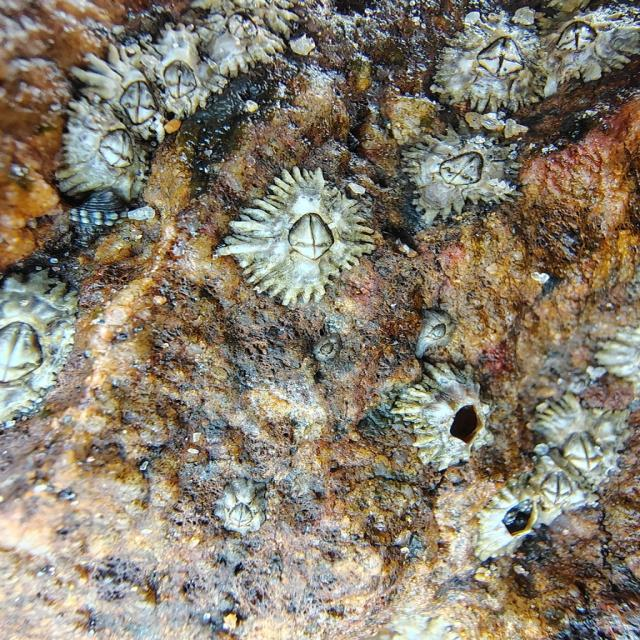barnacles: (220, 162, 376, 308), (0, 265, 82, 436), (433, 13, 541, 115), (398, 366, 492, 470), (405, 132, 521, 215), (545, 8, 640, 98), (54, 123, 157, 203), (536, 382, 622, 475), (93, 56, 169, 150), (145, 28, 227, 115), (463, 482, 534, 566), (526, 466, 588, 515)
